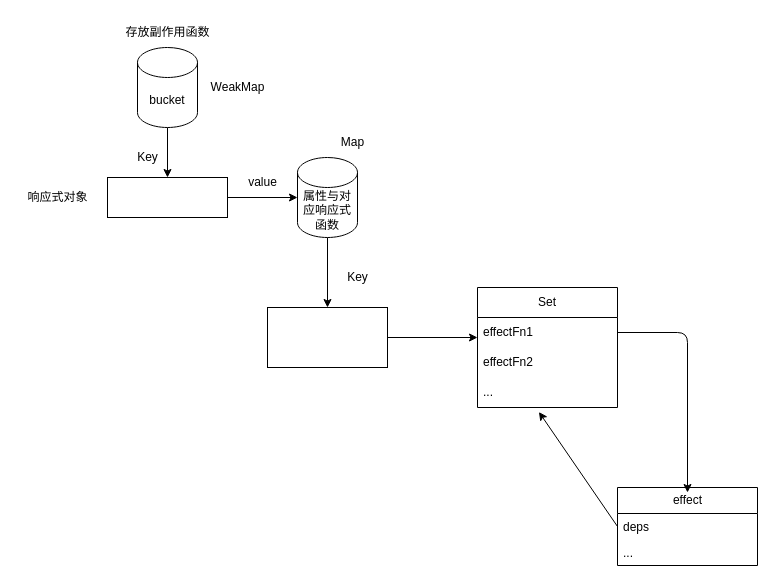
The diagram is 775 pixels wide and 585 high, and some of its shapes have lost their labels. Each missing label, with the box of its shape:
target: (106, 176, 228, 218)
响应式对象的属性: (266, 306, 388, 368)
